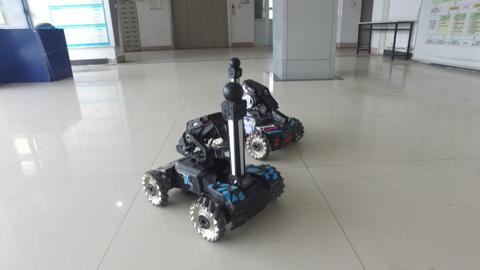chariot: (138, 80, 290, 245), (221, 57, 305, 162)
